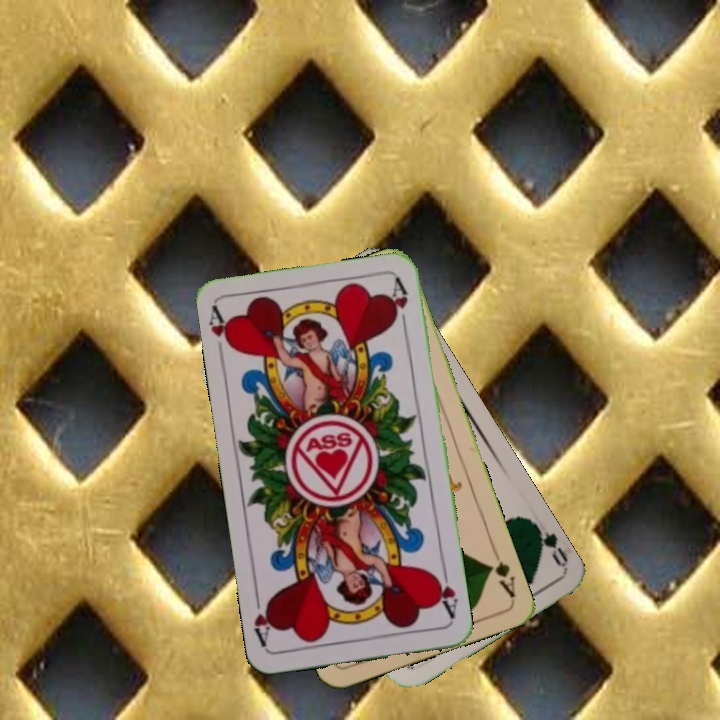GA: (483, 544, 518, 601)
GO: (527, 517, 571, 569)
HA: (205, 303, 237, 362), (430, 563, 460, 622)
